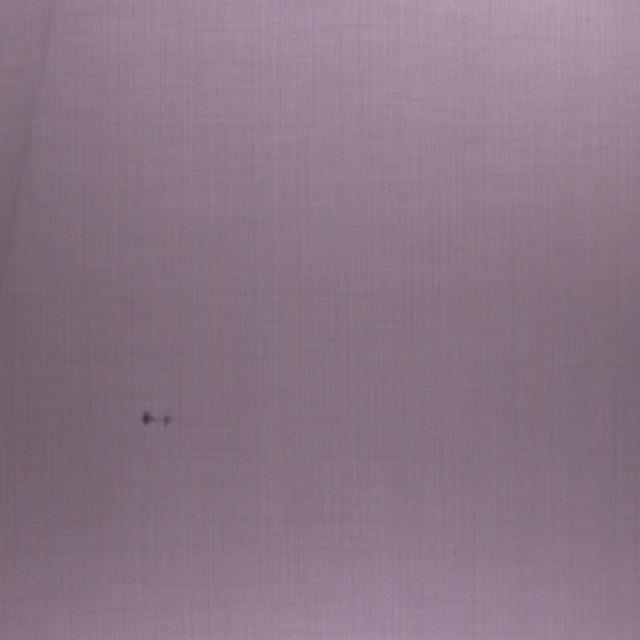dirty: (142, 409, 172, 426)
